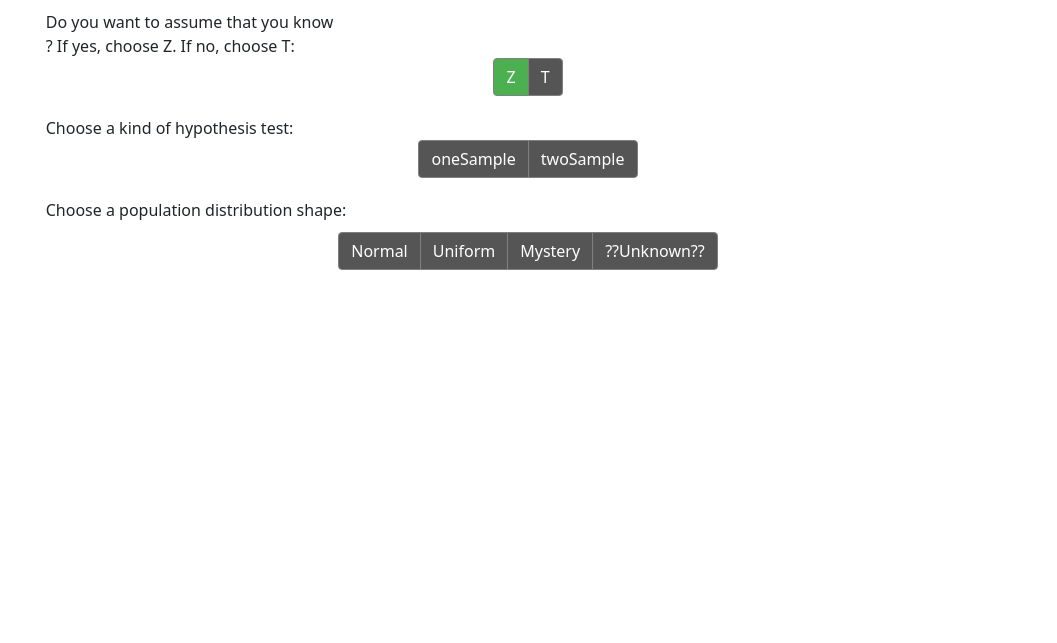
HypothesisTesting integration tests › clicking buttons reveals module contents
The width and height of the screenshot is (1057, 643).
Expected: the button "Continue" is not shown
Click the button "Normal" at [379, 251], box [338,232,421,270]
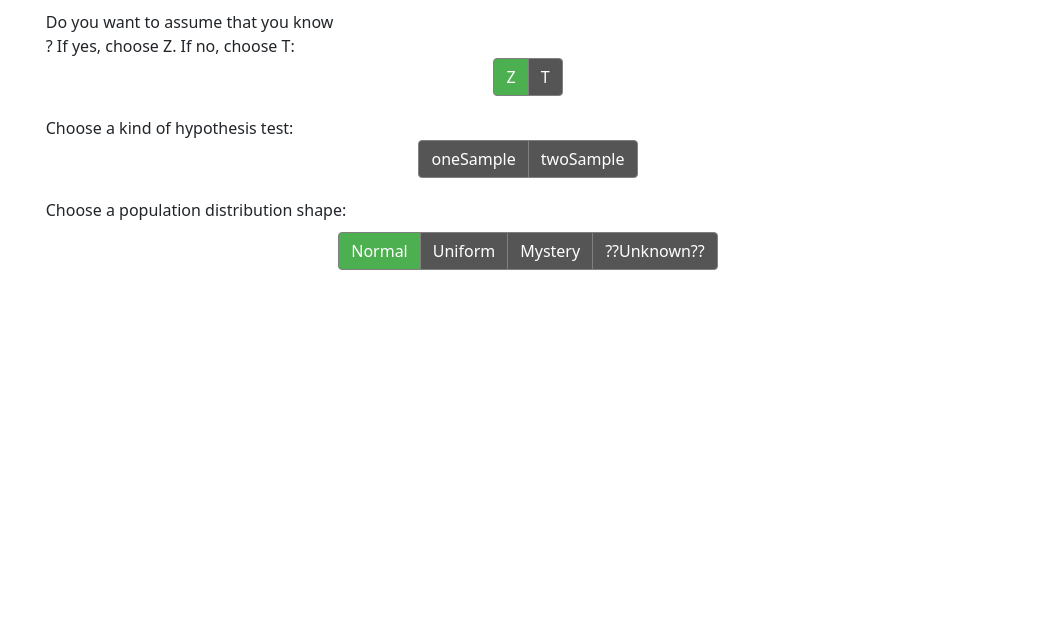
Click the button "oneSample" at [474, 159], box [418,140,529,178]
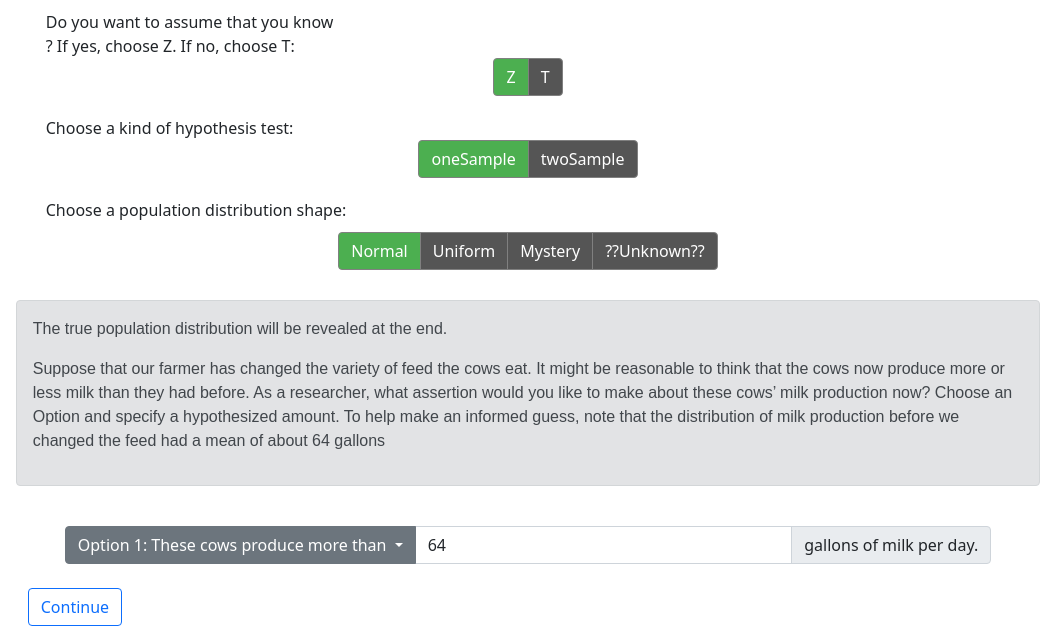
Result: the button "Continue" is shown at [28,588,122,626]
